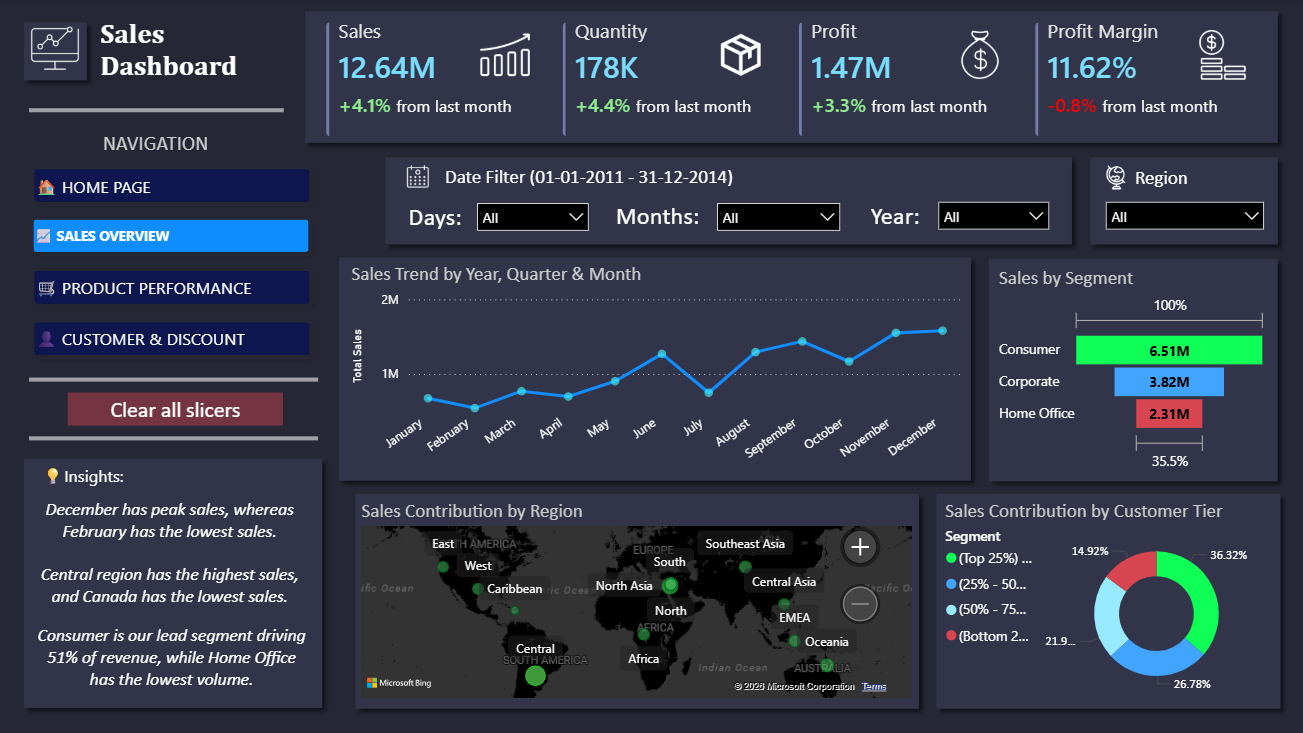

The dashboard page shown, as its layout file describes it:
{"tool":"powerbi","page":{"name":"📈 SALES OVERVIEW","canvas":[1280,720],"ordinal":1},"visuals":[{"type":"shape","box":[340.8,475.5,570.6,228.2],"z":0},{"type":"textbox","box":[94.5,12.1,157.5,73.8],"z":1000},{"type":"shape","box":[292,3,971.8,146.4],"z":2000},{"type":"cardVisual","fields":{"Data":["measures (2).total_sales","measures (2).total_quantity","measures (2).total_profit","measures (2).profit_margin"]},"box":[304.5,4.6,955,146.2],"z":3000},{"type":"shape","box":[29.5,95.8,250,25],"z":4000},{"type":"shape","box":[29.5,360.8,283.8,23.8],"z":5000},{"type":"shape","box":[15.7,13.3,78.8,73.8],"z":6000},{"type":"image","box":[25.7,22.1,58.8,48.8],"z":7000},{"type":"image","box":[467,29,58.8,48.8],"z":8000},{"type":"image","box":[697.6,24.6,60,56.9],"z":9000},{"type":"image","box":[933.9,29,58.8,48.8],"z":10000},{"type":"image","box":[1171.4,29,58.8,48.8],"z":11000},{"type":"shape","box":[371.1,146.5,691.2,102.5],"z":12000},{"type":"slicer","title":"Year","fields":{"Values":["calendar.Year"]},"box":[911.6,188,128.8,51.5],"z":13000},{"type":"slicer","title":"Year","fields":{"Values":["calendar.Month Name"]},"box":[694.4,189.2,141.1,52.8],"z":14000},{"type":"slicer","title":"Year","fields":{"Values":["calendar.Day"]},"box":[458.9,189.2,130.1,52.8],"z":15000},{"type":"image","box":[396.3,161,29.4,24.5],"z":16000},{"type":"map","title":"Sales Contribution by Region","fields":{"Size":["Sum(sales_analysis processed_sales_data.sales)"],"Category":["sales_analysis processed_sales_data.region"]},"box":[350.7,489,549.7,200],"z":17000},{"type":"shape","box":[962.9,244.9,300.6,235.6],"z":18000},{"type":"shape","box":[325.7,244.6,637.5,236.2],"z":19000},{"type":"lineChart","title":"Sales Trend by Year, Quarter & Month","fields":{"Y":["Sum(sales_analysis processed_sales_data.sales)"],"Category":["calendar.Year","calendar.Quarter","calendar.Month Name"]},"box":[340.7,257.1,608.8,211.2],"z":20000},{"type":"actionButton","box":[428.2,153.6,301.8,40.5],"z":21000},{"type":"actionButton","box":[393.8,194.1,68.7,35.6],"z":22000},{"type":"actionButton","box":[598.7,192.9,95.7,35.6],"z":23000},{"type":"actionButton","box":[847.8,192.9,63.8,35.6],"z":24000},{"type":"shape","box":[1062.3,146.5,201.2,102.5],"z":25000},{"type":"actionButton","box":[1110.4,153.2,61.2,41.2],"z":26000},{"type":"image","box":[1082.5,156.5,28.3,34.2],"z":27000},{"type":"slicer","title":"Year","fields":{"Values":["sales_analysis processed_sales_data.region","sales_analysis processed_sales_data.state"]},"box":[1075.8,188.2,175.8,51.7],"z":28000},{"type":"shape","box":[911.4,475.5,354.6,228.2],"z":29000},{"type":"donutChart","title":"Sales Contribution by Customer Tier","fields":{"Category":["sales_analysis processed_sales_data.customer_priority"],"Y":["measures (2).total_sales"]},"box":[923.7,489,328.8,203.7],"z":30000},{"type":"actionButton","box":[79,118.5,150.6,42],"z":31000},{"type":"funnel","title":"Sales by Segment","fields":{"Category":["sales_analysis processed_sales_data.segment"],"Y":["Sum(sales_analysis processed_sales_data.sales)"]},"box":[976.4,260.8,273.6,204.9],"z":32000},{"type":"actionButton","box":[67,385.8,211.2,32.5],"z":33000},{"type":"shape","box":[29.5,418.3,283.8,23.8],"z":34000},{"type":"pageNavigator","box":[25.9,156.8,288.9,203.7],"z":35000},{"type":"shape","box":[16,442,309.9,261.7],"z":36000},{"type":"actionButton","box":[38.3,448.1,95.1,38.3],"z":37000},{"type":"card","fields":{"Values":["measures (2).dynamic_sales_insight"]},"box":[25.9,474.1,284,72.8],"z":38000},{"type":"card","fields":{"Values":["measures (2).dynamic_region_insight"]},"box":[25.9,535.8,284,74.1],"z":39000},{"type":"card","fields":{"Values":["measures (2).dynamic_segment_insight"]},"box":[29.6,591.4,280.2,101.2],"z":40000}]}

Visuals, with their boxes in screenshot pixels (x1, y1, x2, y2), scaled from the page's 1280x720 canvas onto the 1303x733 screenshot:
shape: [left=347, top=484, right=928, bottom=716]
textbox: [left=96, top=12, right=257, bottom=87]
shape: [left=297, top=3, right=1287, bottom=152]
cardVisual - measures (2).total_sales x measures (2).total_quantity: [left=310, top=5, right=1282, bottom=154]
shape: [left=30, top=98, right=285, bottom=123]
shape: [left=30, top=367, right=319, bottom=392]
shape: [left=16, top=14, right=96, bottom=89]
image: [left=26, top=22, right=86, bottom=72]
image: [left=475, top=30, right=535, bottom=79]
image: [left=710, top=25, right=771, bottom=83]
image: [left=951, top=30, right=1011, bottom=79]
image: [left=1192, top=30, right=1252, bottom=79]
shape: [left=378, top=149, right=1081, bottom=253]
"Year" slicer: [left=928, top=191, right=1059, bottom=244]
"Year" slicer: [left=707, top=193, right=851, bottom=246]
"Year" slicer: [left=467, top=193, right=600, bottom=246]
image: [left=403, top=164, right=433, bottom=189]
"Sales Contribution by Region" map: [left=357, top=498, right=917, bottom=701]
shape: [left=980, top=249, right=1286, bottom=489]
shape: [left=332, top=249, right=981, bottom=489]
"Sales Trend by Year, Quarter & Month" lineChart: [left=347, top=262, right=967, bottom=477]
actionButton: [left=436, top=156, right=743, bottom=198]
actionButton: [left=401, top=198, right=471, bottom=234]
actionButton: [left=609, top=196, right=707, bottom=233]
actionButton: [left=863, top=196, right=928, bottom=233]
shape: [left=1081, top=149, right=1286, bottom=253]
actionButton: [left=1130, top=156, right=1193, bottom=198]
image: [left=1102, top=159, right=1131, bottom=194]
"Year" slicer: [left=1095, top=192, right=1274, bottom=244]
shape: [left=928, top=484, right=1289, bottom=716]
"Sales Contribution by Customer Tier" donutChart: [left=940, top=498, right=1275, bottom=705]
actionButton: [left=80, top=121, right=234, bottom=163]
"Sales by Segment" funnel: [left=994, top=266, right=1272, bottom=474]
actionButton: [left=68, top=393, right=283, bottom=426]
shape: [left=30, top=426, right=319, bottom=450]
pageNavigator: [left=26, top=160, right=320, bottom=367]
shape: [left=16, top=450, right=332, bottom=716]
actionButton: [left=39, top=456, right=136, bottom=495]
card - measures (2).dynamic_sales_insight: [left=26, top=483, right=315, bottom=557]
card - measures (2).dynamic_region_insight: [left=26, top=545, right=315, bottom=621]
card - measures (2).dynamic_segment_insight: [left=30, top=602, right=315, bottom=705]
